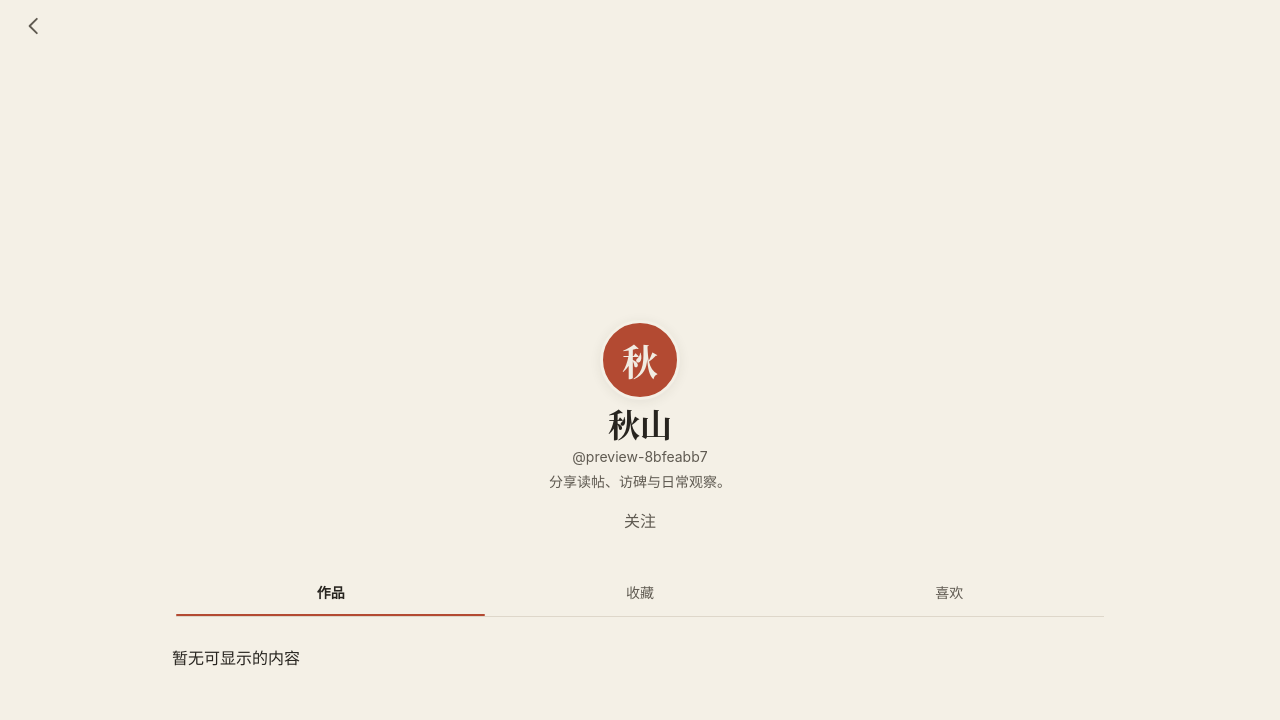
Test: Official author profile with local preview data › opens a different author with fresh local profile state
Click the button "关注" at (640, 520), box top-left (620, 500), bottom-right (660, 540)
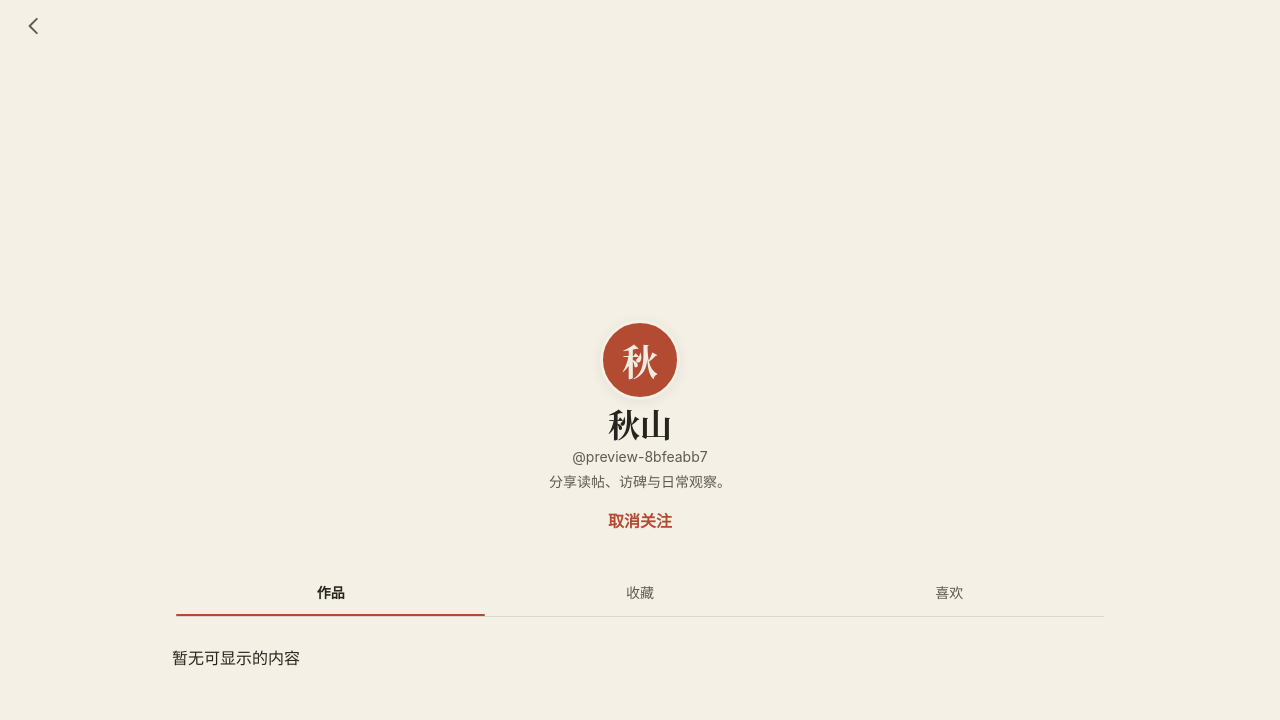
Click the tab "收藏" at (640, 592), box top-left (485, 568), bottom-right (795, 616)
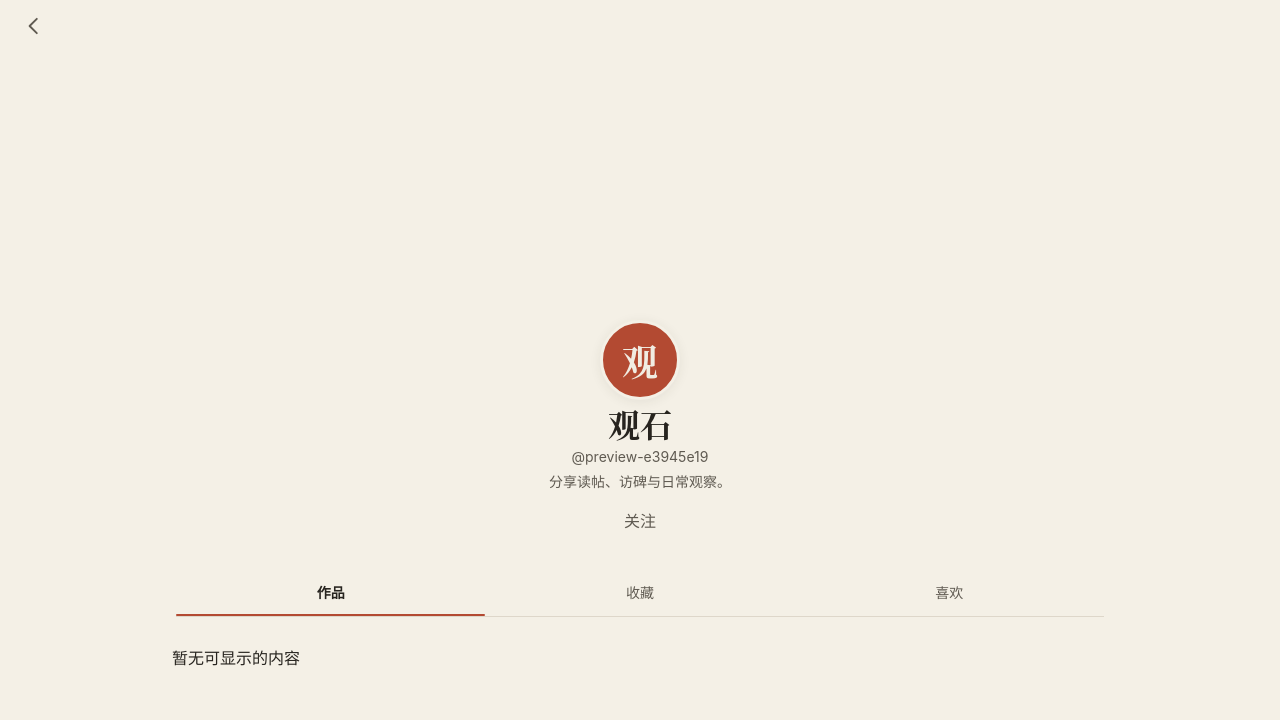
Check: the heading "观石" is shown, box top-left (608, 400), bottom-right (672, 446)
